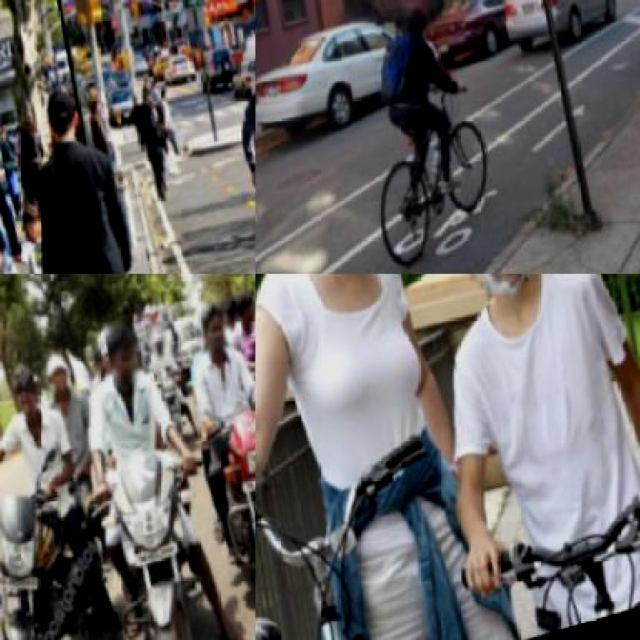With Helmet: (400, 0, 451, 42)
Without Helmet: (189, 294, 249, 366), (5, 358, 62, 432), (101, 316, 156, 390), (40, 341, 86, 402), (146, 320, 186, 371), (235, 290, 254, 336)
